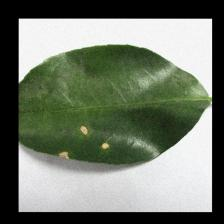canker: (45, 118, 116, 168)
